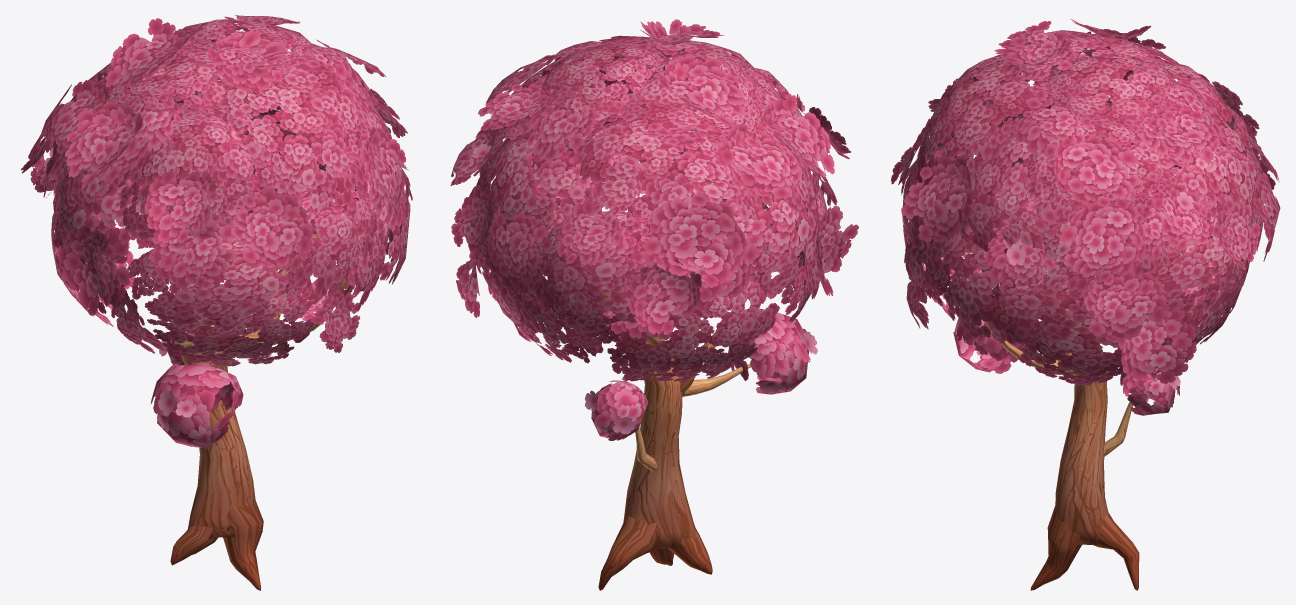
Rendered from SE_Tree_03.fbx.
3 views of the same model, side by side, from view 1: azimuth 30°, elevation 25°; view 2: azimuth 150°, elevation 25°; view 3: azimuth 270°, elevation 25° (orthographic).
Visible parts, largest first — view 1: SE_Tree_03; view 2: SE_Tree_03; view 3: SE_Tree_03.
Part boxes in pixels (<box>): SE_Tree_03: <box>21,15,412,590</box>; SE_Tree_03: <box>450,19,858,590</box>; SE_Tree_03: <box>891,19,1280,590</box>.
Size of the model in its own units: 10.73 by 16.23 by 10.42.
